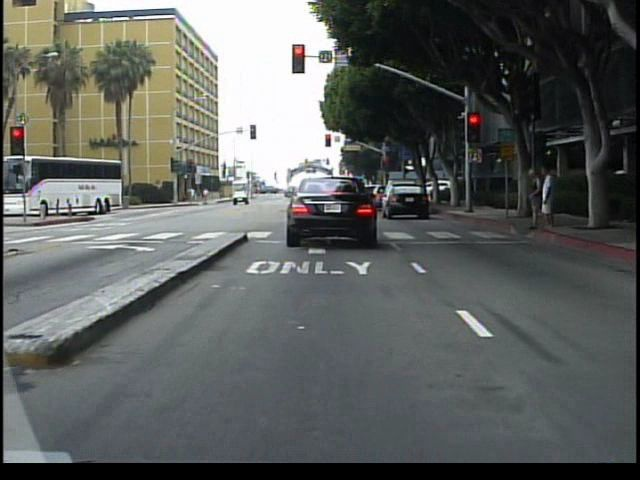person: (536, 166, 559, 236), (523, 163, 543, 232)
